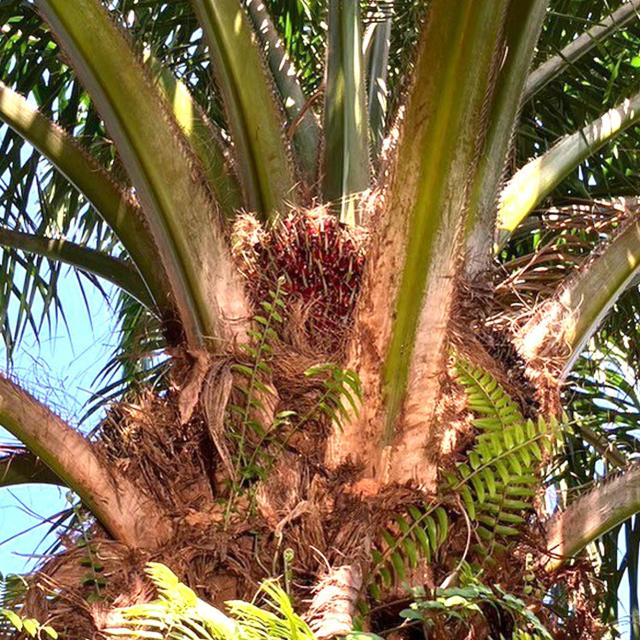ripe: (248, 212, 381, 350)
